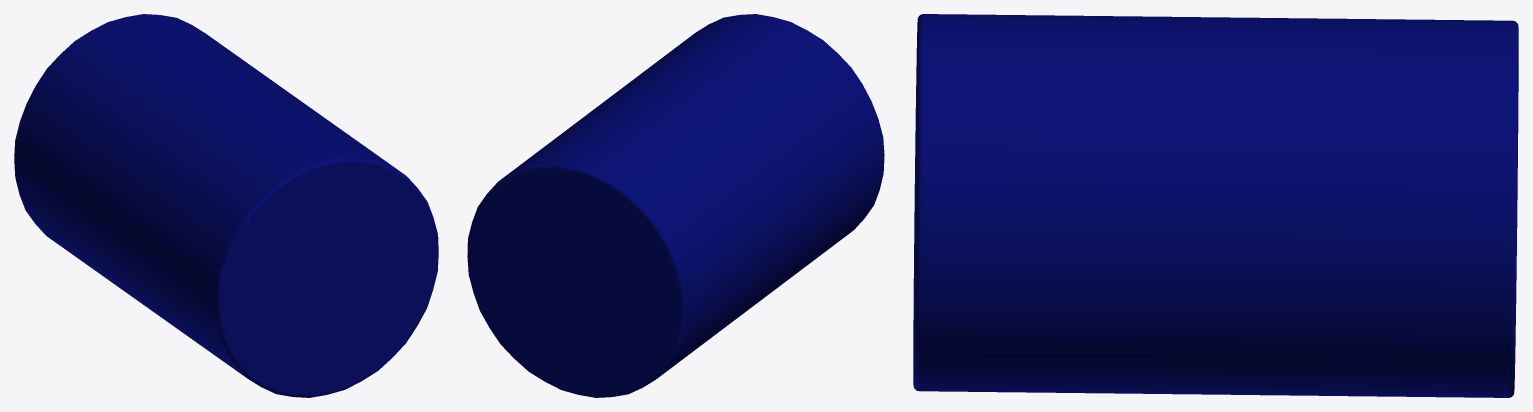
3 renders of one model, left to right at view 1: azimuth 30°, elevation 25°; view 2: azimuth 150°, elevation 25°; view 3: azimuth 270°, elevation 25°, orthographic. The views are drawn at different scales.
Visible parts, largest first — view 1: node_id30; view 2: node_id30; view 3: node_id30.
Part boxes in pixels (x1,y1,x2,y2): node_id30: [14, 14, 438, 397]; node_id30: [467, 14, 884, 397]; node_id30: [913, 14, 1518, 397].
Bounding box in the file's own units: 0.32 × 0.3263 × 0.5159.
Materials: 1 (1 with a texture image).
